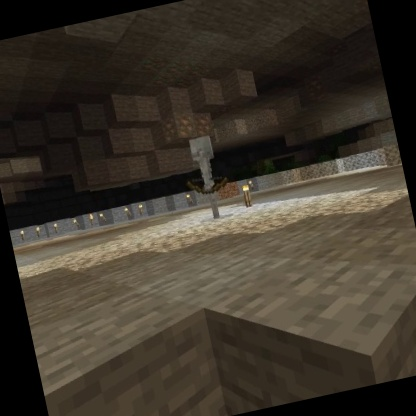skeleton: (174, 128, 239, 226)
